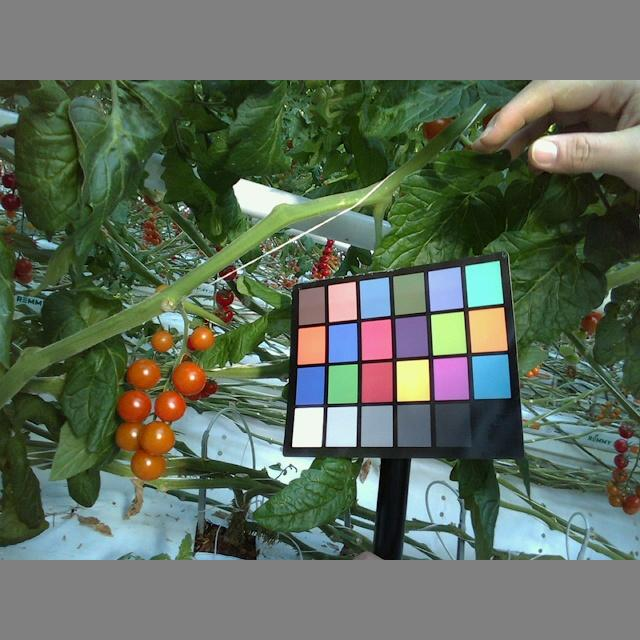pink: (139, 417, 175, 456), (171, 358, 206, 398), (131, 446, 169, 481), (115, 419, 149, 453), (128, 357, 163, 388), (187, 325, 215, 348), (150, 330, 173, 353)
red: (115, 390, 151, 423), (154, 388, 187, 422)
